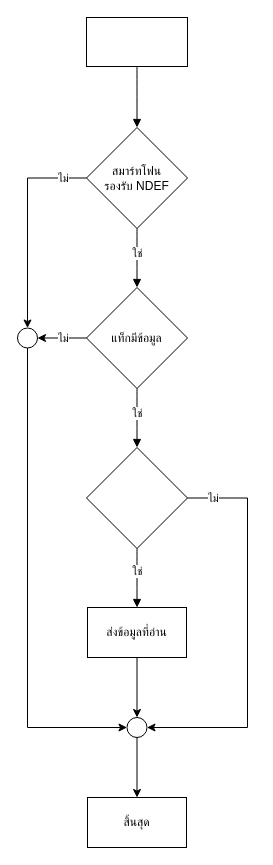
This 273x865 diagram has some shape labels left out. The shapes that lost their labels are listed below. From the top down, each one's box as (x1, y1, x2, y2) in pixels, then its label:
(86, 16, 188, 66): เริ่มต้น
(86, 446, 188, 548): รูปแบบข้อมูล ถูกต้อง
